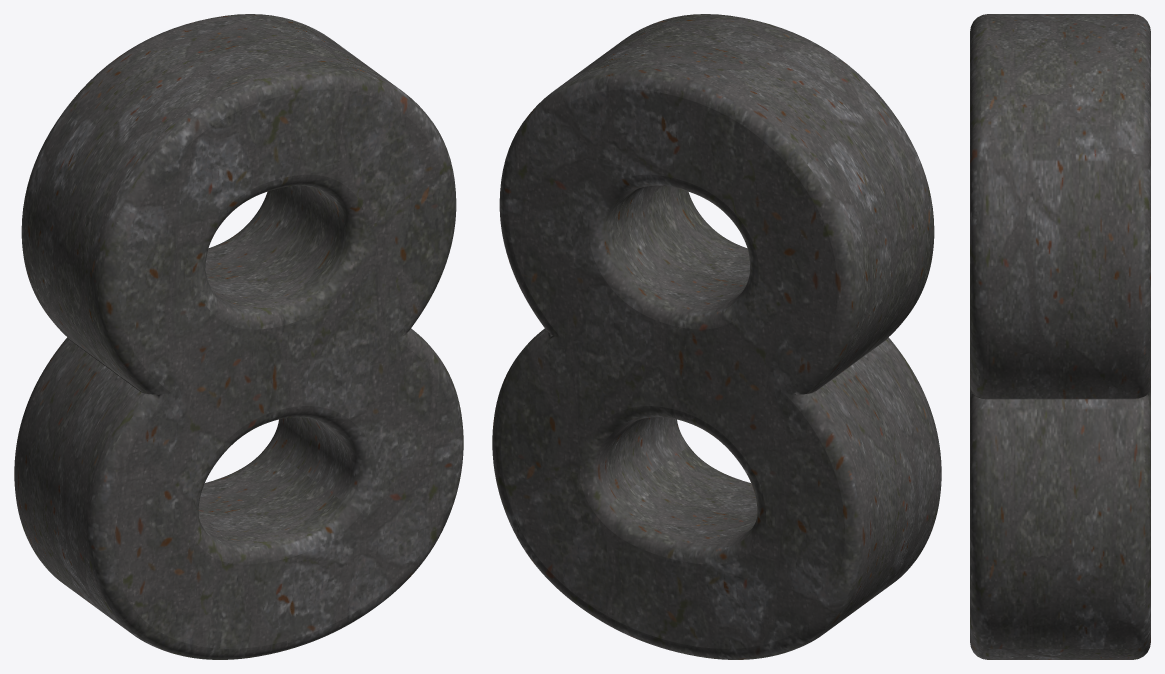
The picture shows the model from 3 angles, left to right: view 1: azimuth 30°, elevation 25°; view 2: azimuth 150°, elevation 25°; view 3: azimuth 270°, elevation 25°; orthographic projection. The views are drawn at different scales.
Visible parts, largest first — view 1: Text; view 2: Text; view 3: Text.
Part boxes in pixels (x1,y1,x2,y2): Text: (14, 14, 463, 659); Text: (492, 14, 941, 659); Text: (970, 14, 1150, 659).
Size of the model in its own units: 24.6 by 36.3 by 10.
Materials: 1 (1 with a texture image).
